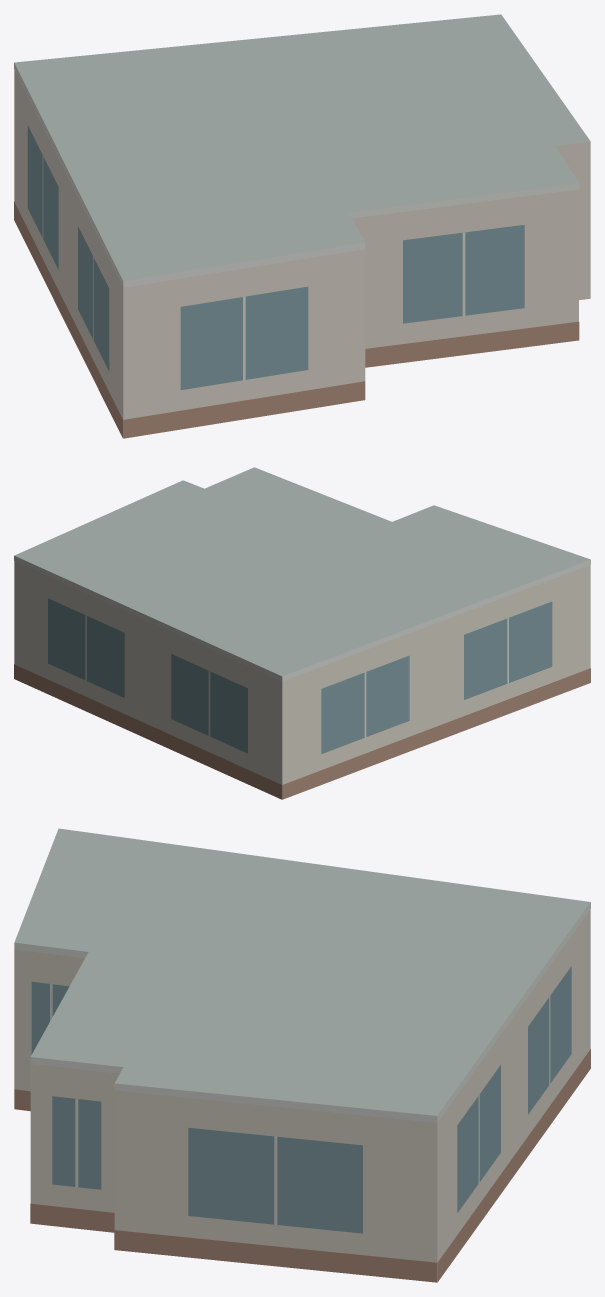
File: survey-upis-32649212.glb
3 renders of one model, top to bottom at view 1: azimuth 30°, elevation 25°; view 2: azimuth 150°, elevation 25°; view 3: azimuth 270°, elevation 25°, orthographic. The views are drawn at different scales.
Parts seen in each view (by area): view 1: survey-upis-32649212.tmp; view 2: survey-upis-32649212.tmp; view 3: survey-upis-32649212.tmp.
Part boxes in pixels (<box>): survey-upis-32649212.tmp: <box>14,14,590,438</box>; survey-upis-32649212.tmp: <box>14,467,590,799</box>; survey-upis-32649212.tmp: <box>14,828,590,1282</box>.
Bounding box in the file's own units: 11.31 × 3.05 × 9.58.
